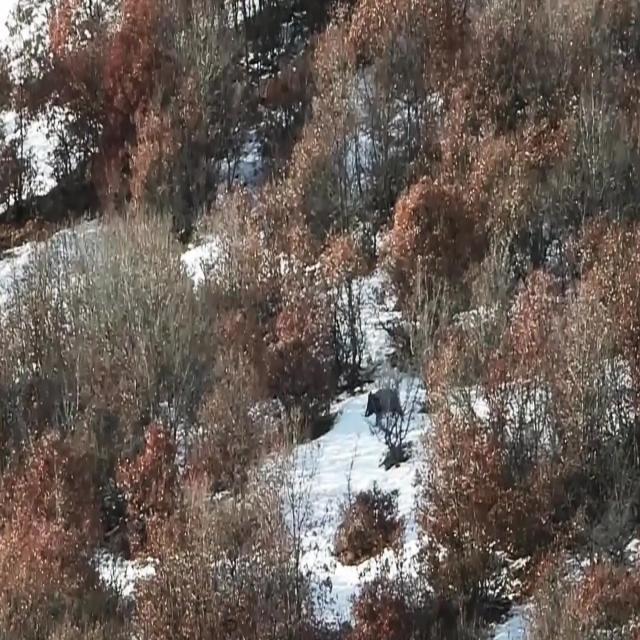pig: (352, 372, 421, 430)
